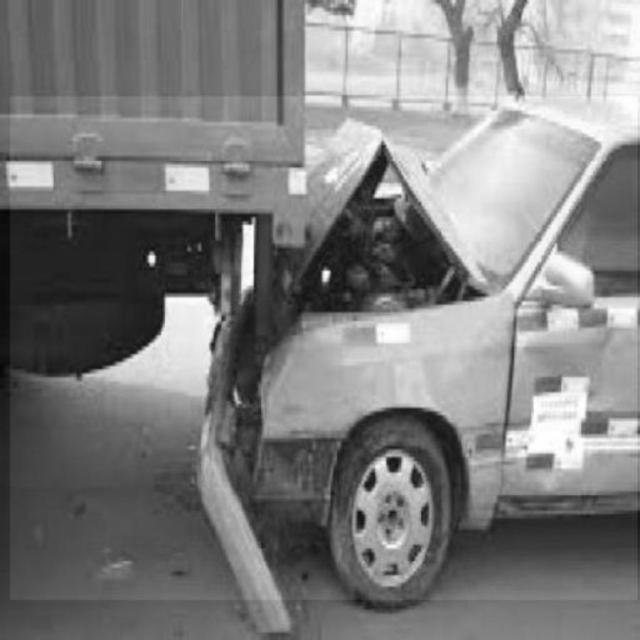accident: (10, 97, 637, 601)
